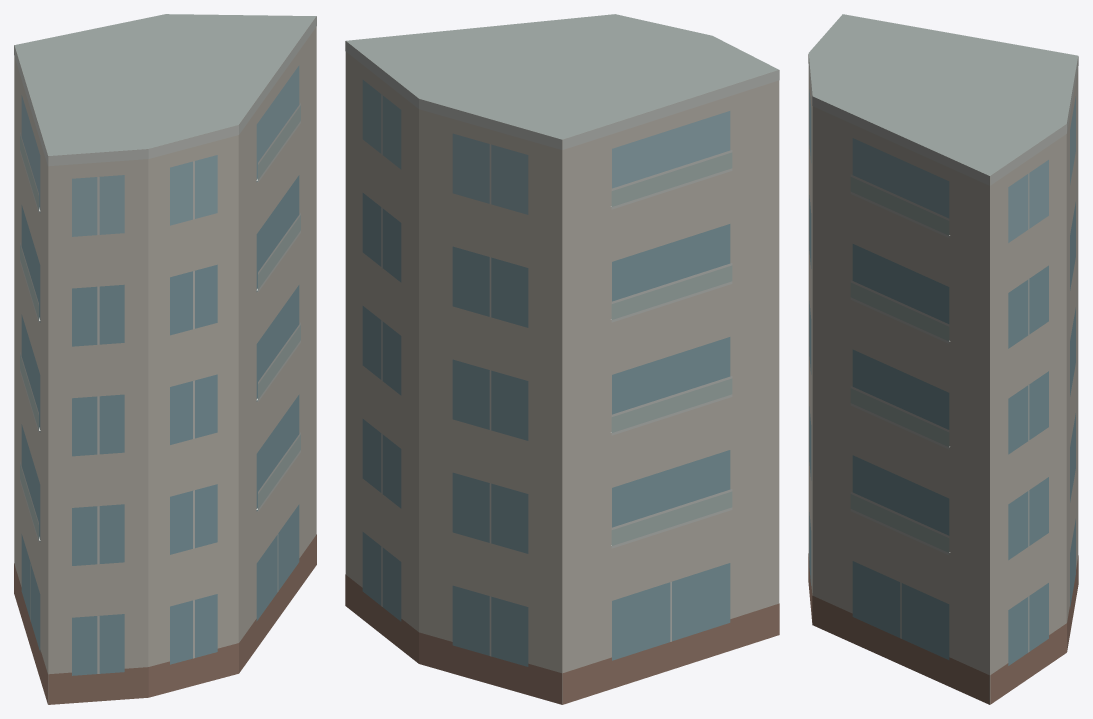
The model's file is survey-upis-32460950.glb.
3 renders of one model, left to right at view 1: azimuth 30°, elevation 25°; view 2: azimuth 150°, elevation 25°; view 3: azimuth 270°, elevation 25°, orthographic. The views are drawn at different scales.
Parts seen in each view (by area): view 1: survey-upis-32460950.tmp; view 2: survey-upis-32460950.tmp; view 3: survey-upis-32460950.tmp.
Part boxes in pixels (x1,y1,x2,y2): survey-upis-32460950.tmp: (14,14,316,704); survey-upis-32460950.tmp: (345,14,779,704); survey-upis-32460950.tmp: (808,14,1078,704).
Size of the model in its own units: 8.69 by 13.2 by 6.11.
